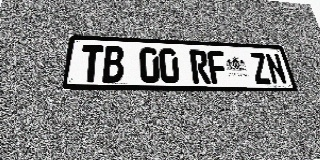0: (158, 48, 180, 83), (139, 47, 160, 83)
B: (102, 46, 124, 83)
F: (206, 50, 229, 84)
N: (264, 53, 288, 84)
R: (189, 50, 211, 84)
T: (79, 45, 103, 82)
Z: (249, 52, 272, 84)
